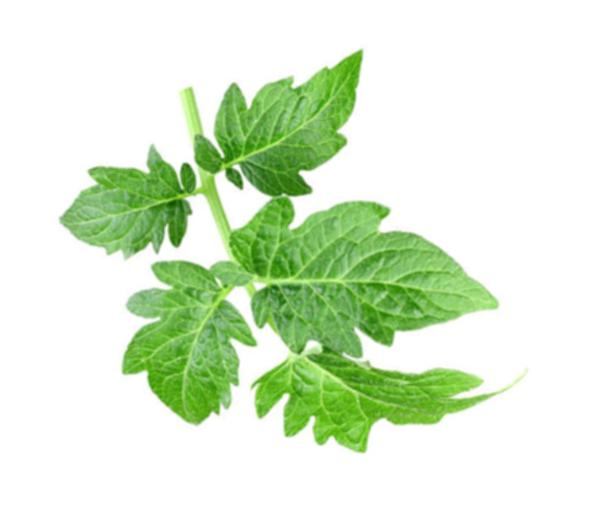Tomato leaf: (206, 150, 523, 398), (215, 291, 516, 508), (180, 5, 387, 238), (102, 229, 284, 462), (43, 116, 211, 276)
